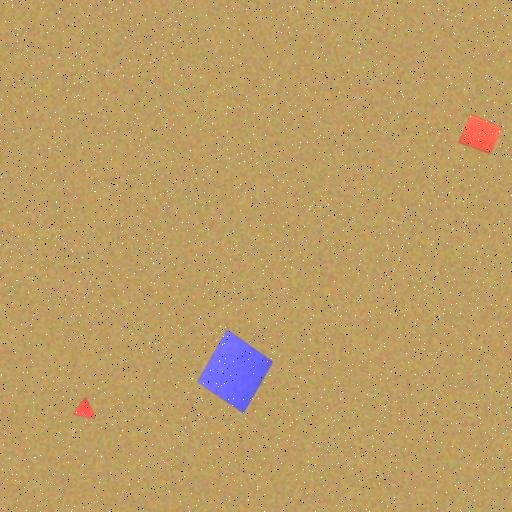BLUE_SQUARE: (196, 329, 274, 414)
RED_SQUARE: (458, 114, 502, 155)
